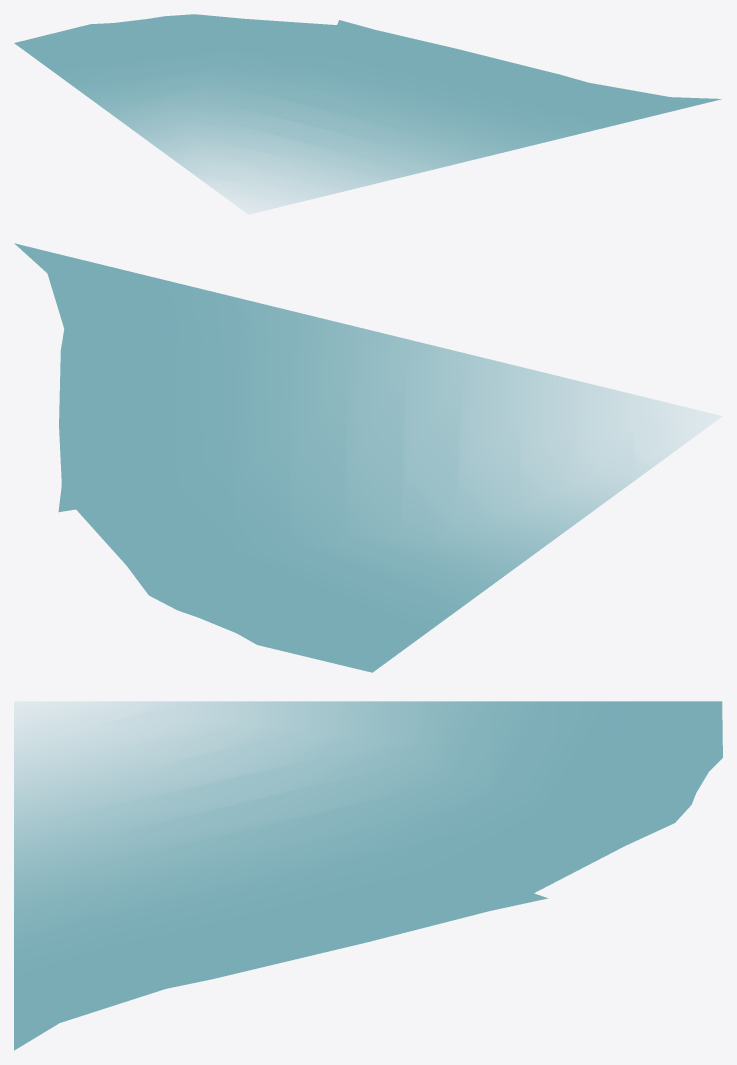
The picture shows the model from 3 angles, top to bottom: view 1: azimuth 30°, elevation 25°; view 2: azimuth 150°, elevation 25°; view 3: azimuth 270°, elevation 25°; orthographic projection. The views are drawn at different scales.
Visible parts, largest first — view 1: city; view 2: city; view 3: city.
Boxes of the visible parts, x1=… form: city: x1=14, y1=14, x2=721, y2=213; city: x1=14, y1=243, x2=721, y2=672; city: x1=14, y1=701, x2=722, y2=1050.
Size of the model in its own units: 427 by 0 by 366.
